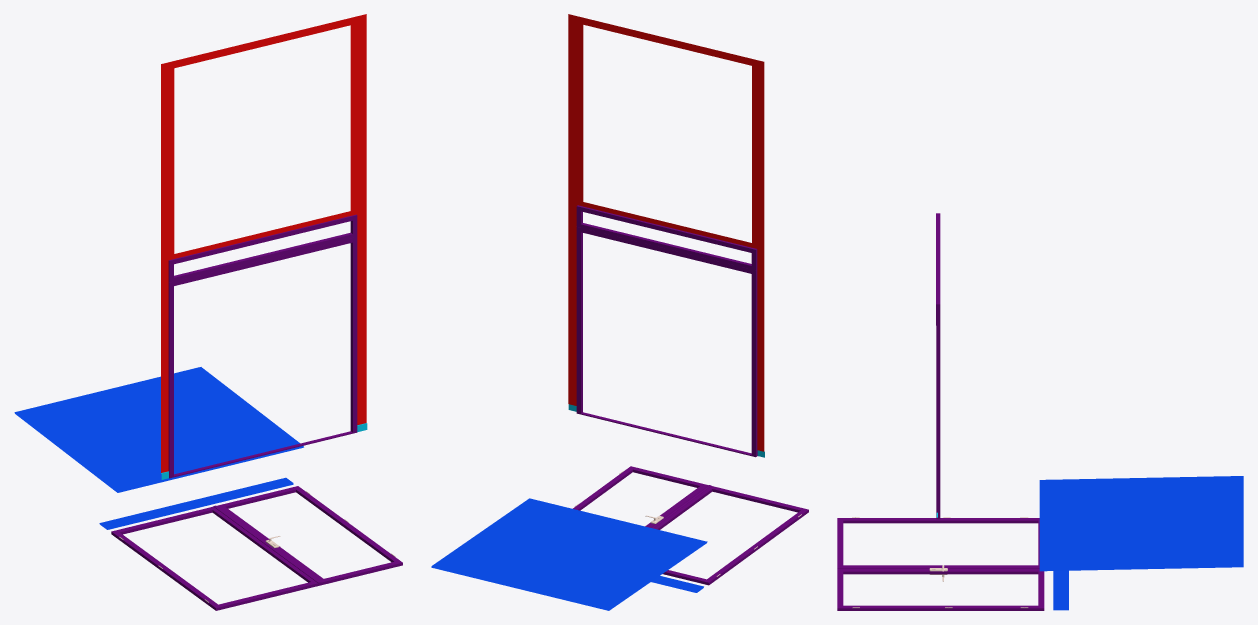
The model's file is SM_PORT.fbx.
3 views of the same model, side by side, from view 1: azimuth 30°, elevation 25°; view 2: azimuth 150°, elevation 25°; view 3: azimuth 270°, elevation 25° (orthographic). The views are drawn at different scales.
Parts seen in each view (by area): view 1: SM_Door_Frame_C, SM_Glass_C.002, SM_Door_L_C, SM_Door_R_C, SM_Glass_C.001; view 2: SM_Door_Frame_C, SM_Glass_C.002, SM_Door_L_C, SM_Door_R_C; view 3: SM_Glass_C.002, SM_Door_R_C, SM_Door_L_C, SM_Door_Frame_C, SM_Glass_C.001.
Boxes of the visible parts, x1,y1,x2,y2 form: SM_Door_Frame_C: [161, 14, 367, 479]; SM_Glass_C.002: [14, 367, 303, 492]; SM_Door_L_C: [111, 506, 319, 610]; SM_Door_R_C: [213, 486, 402, 585]; SM_Glass_C.001: [99, 477, 293, 529]; SM_Door_Frame_C: [568, 14, 764, 457]; SM_Glass_C.002: [431, 498, 707, 610]; SM_Door_L_C: [653, 486, 808, 585]; SM_Door_R_C: [573, 466, 711, 528]; SM_Glass_C.002: [1039, 476, 1243, 571]; SM_Door_R_C: [837, 565, 1044, 610]; SM_Door_L_C: [837, 517, 1039, 566]; SM_Door_Frame_C: [936, 213, 940, 519]; SM_Glass_C.001: [1053, 570, 1068, 610].
Size of the model in its own units: 231 by 552 by 399.
